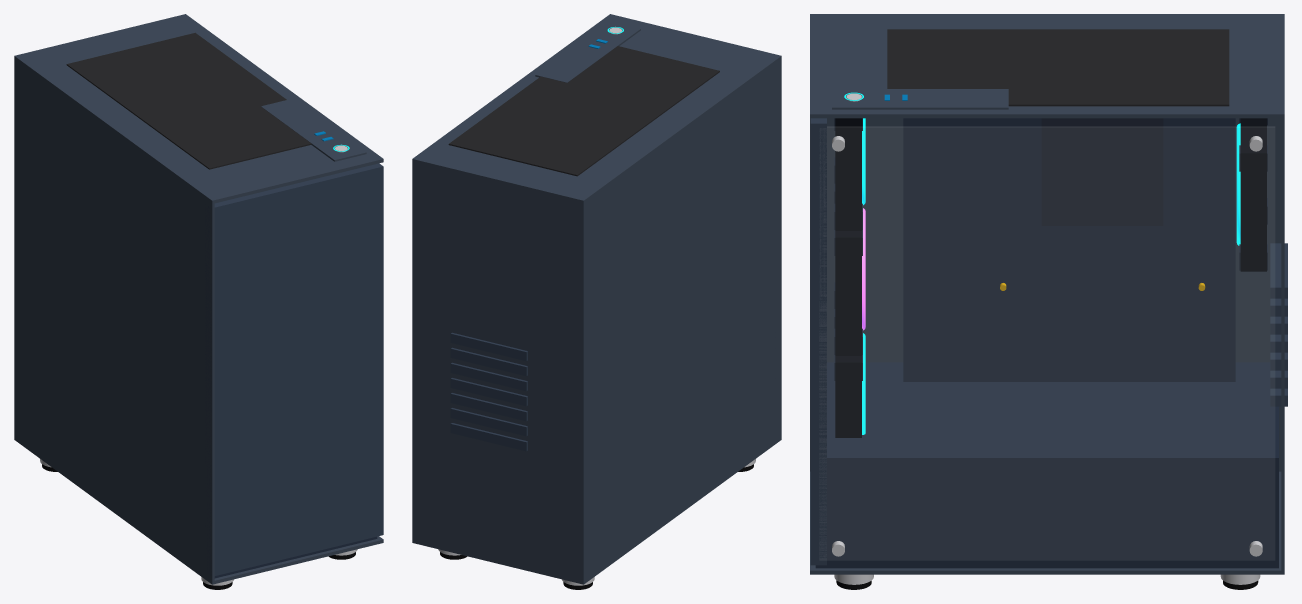
File: case.glb
3 views of the same model, side by side, from view 1: azimuth 30°, elevation 25°; view 2: azimuth 150°, elevation 25°; view 3: azimuth 270°, elevation 25° (orthographic). The views are drawn at different scales.
Size of the model in its own units: 0.223 by 0.4856 by 0.433.
